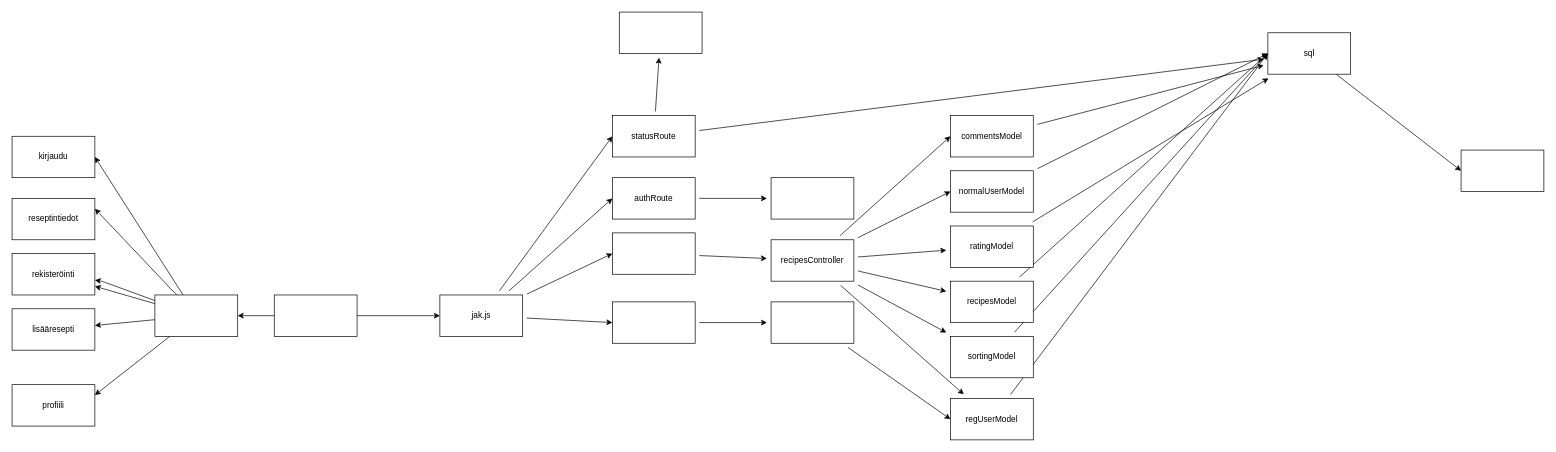
Some shapes in this 1556 by 452 pixel diagram are drawn without their labels. Each missing label, with the centre of its shape:
authController: [812,198]
etusivu: [196,315]
frontend: [315,315]
jakrecipes: [1502,170]
recipeRoute: [653,253]
statussivu: [660,32]
userController: [812,322]
userRoute: [653,322]
